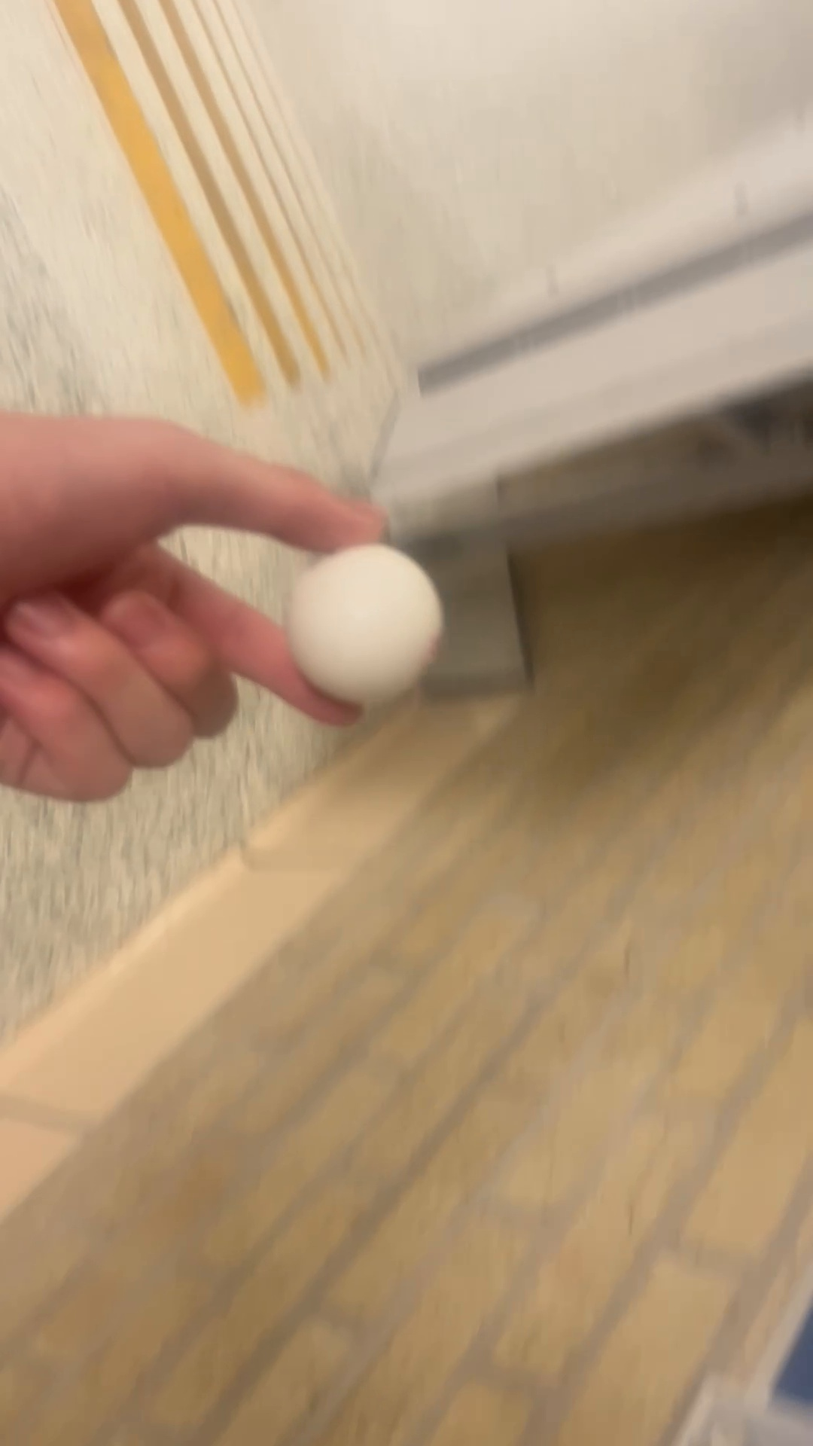Ball: (290, 531, 441, 709)
